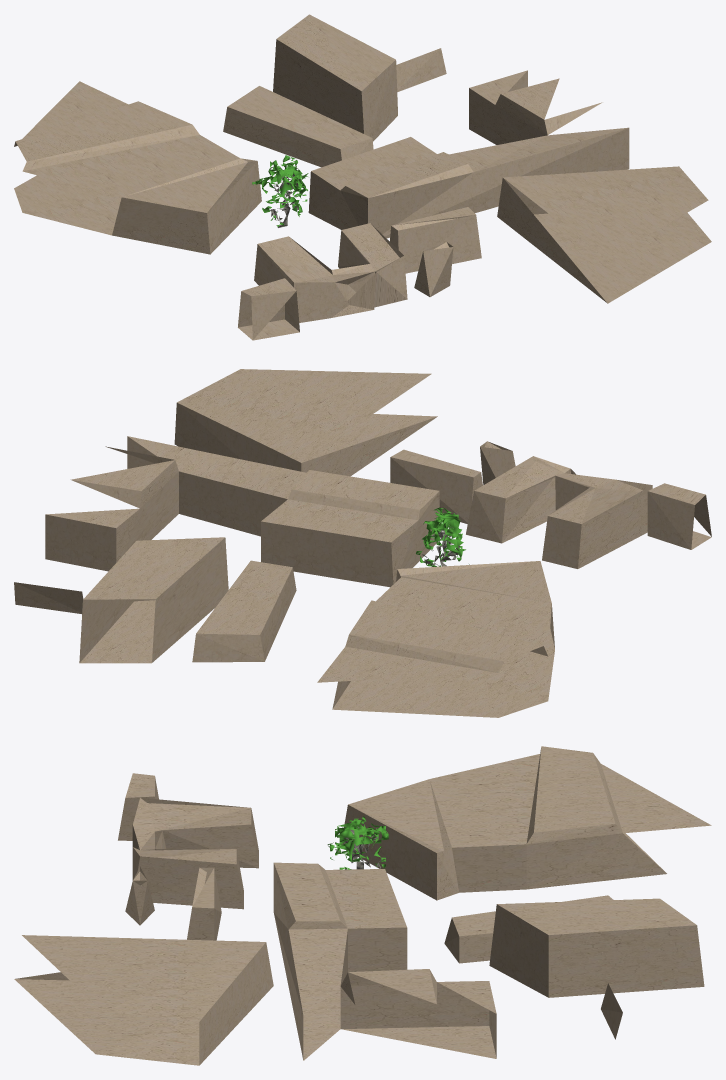
Rendered from tile_0_-2.gltf.
The picture shows the model from 3 angles, top to bottom: view 1: azimuth 30°, elevation 25°; view 2: azimuth 150°, elevation 25°; view 3: azimuth 270°, elevation 25°; orthographic projection. The views are drawn at different scales.
Visible parts, largest first — view 1: Plane.011@tile_0_-2, Bodhi Tree_Bodhi_front_2_Mat_0.044@tile_0_-2; view 2: Plane.011@tile_0_-2, Bodhi Tree_Bodhi_front_2_Mat_0.044@tile_0_-2; view 3: Plane.011@tile_0_-2, Bodhi Tree_Bodhi_front_2_Mat_0.044@tile_0_-2.
Boxes of the visible parts, x1=… form: Plane.011@tile_0_-2: x1=14, y1=14, x2=711, y2=340; Bodhi Tree_Bodhi_front_2_Mat_0.044@tile_0_-2: x1=252, y1=155, x2=308, y2=227; Plane.011@tile_0_-2: x1=14, y1=369, x2=711, y2=717; Bodhi Tree_Bodhi_front_2_Mat_0.044@tile_0_-2: x1=416, y1=507, x2=469, y2=566; Plane.011@tile_0_-2: x1=14, y1=746, x2=711, y2=1065; Bodhi Tree_Bodhi_front_2_Mat_0.044@tile_0_-2: x1=327, y1=816, x2=388, y2=870.
Bounding box in the file's own units: 76.68 × 10.95 × 84.69.
3 materials, 2 textured.
